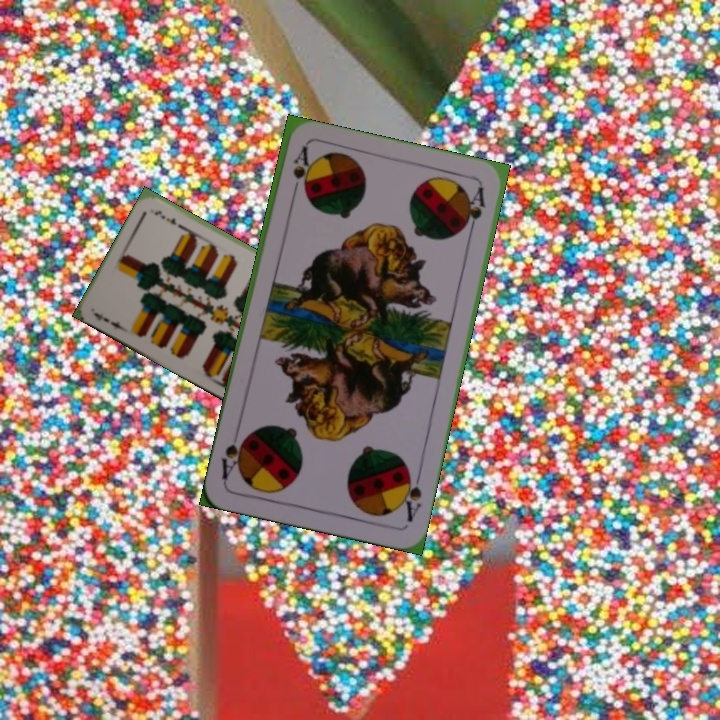E7: (90, 308, 128, 334)
SA: (396, 465, 424, 525), (287, 143, 312, 201)
